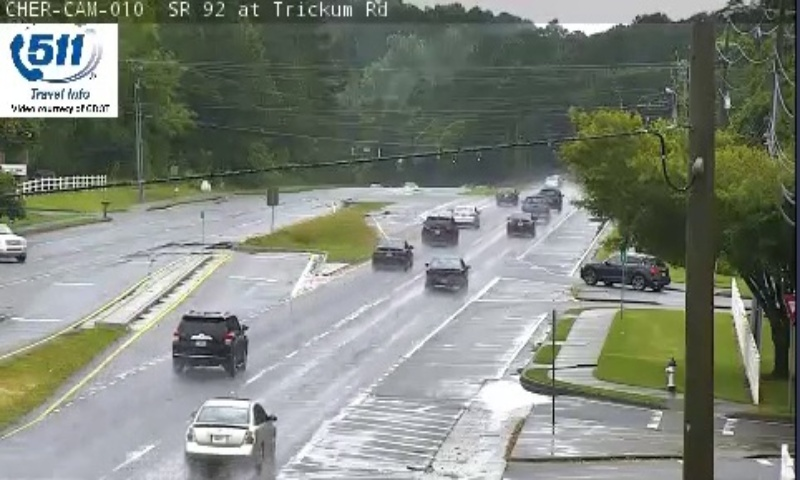car: (184, 400, 272, 461), (172, 312, 250, 364), (425, 258, 469, 290), (372, 240, 412, 268), (421, 213, 456, 242), (451, 203, 478, 227), (506, 214, 534, 236), (524, 196, 547, 220), (496, 185, 516, 205)
